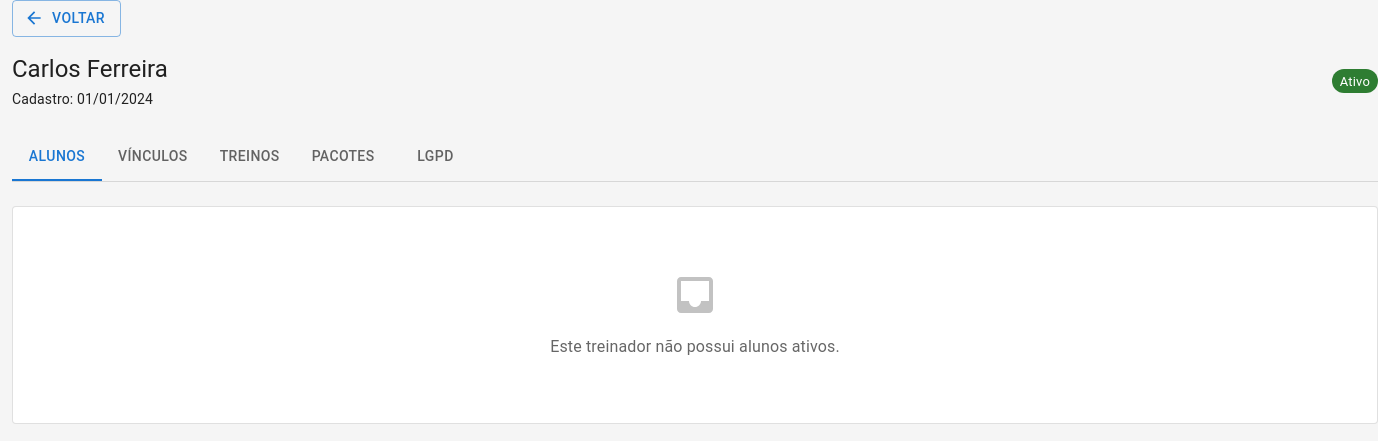
DetalheTreinadorAdminPage — tabs e pacotes › tab Treinos → mostra empty state de treinos
This screenshot has width=1378, height=441.
Expected: the heading "Carlos Ferreira" is shown, x1=12 y1=52 x2=168 y2=84
Click the tab "Treinos" at x=250, y=156, box x1=204 y1=132 x2=296 y2=180
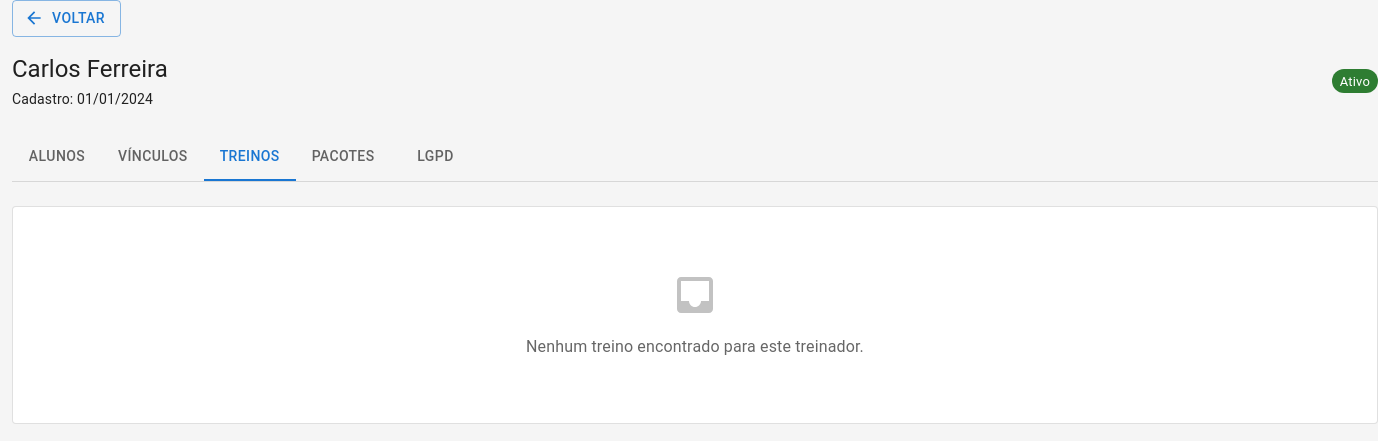
Now the text "Nenhum treino encontrado para este treinador." is shown, box x1=526 y1=334 x2=864 y2=358
